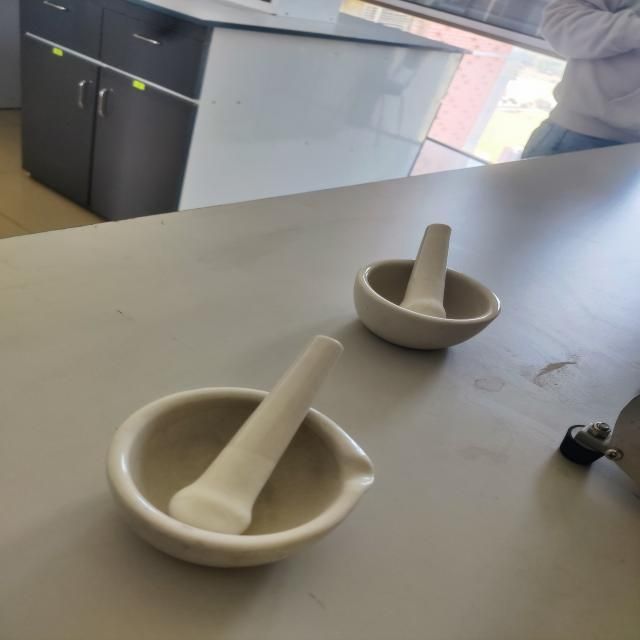Porcelain_Mortar Pestle: (88, 323, 391, 594), (342, 205, 520, 372)
